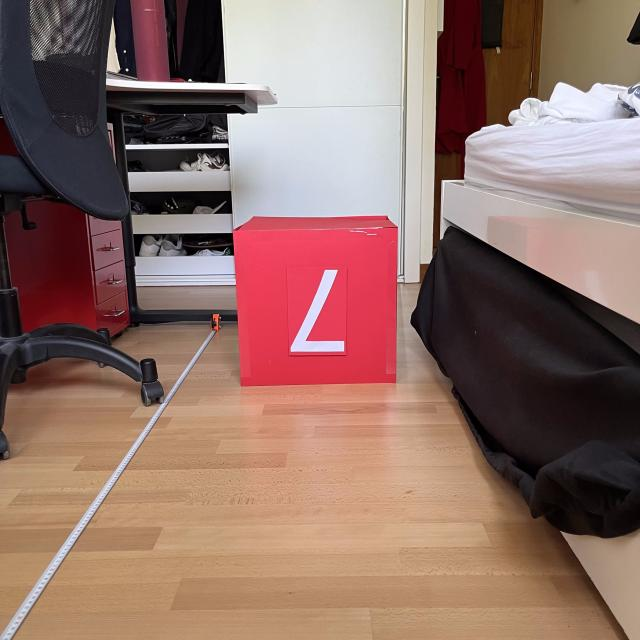box: (228, 210, 402, 388)
